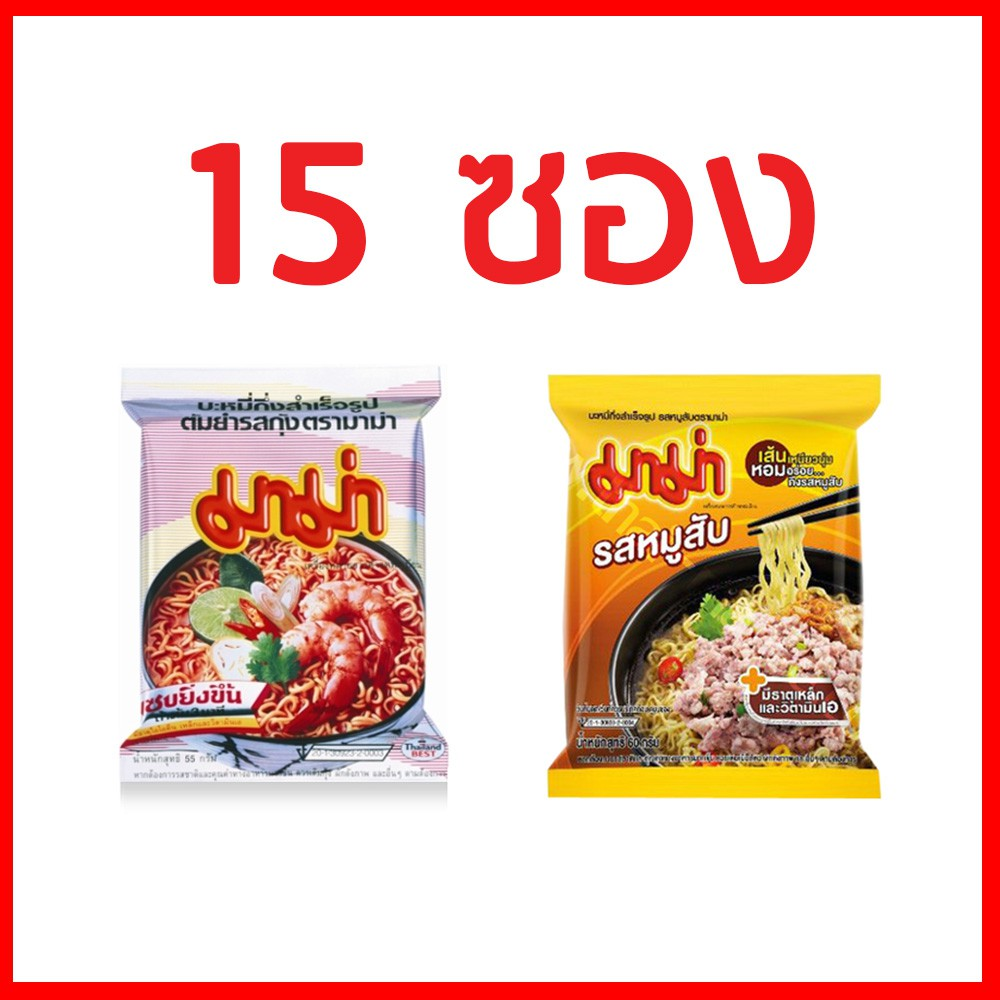Snack: (106, 356, 463, 808), (536, 368, 891, 813)
